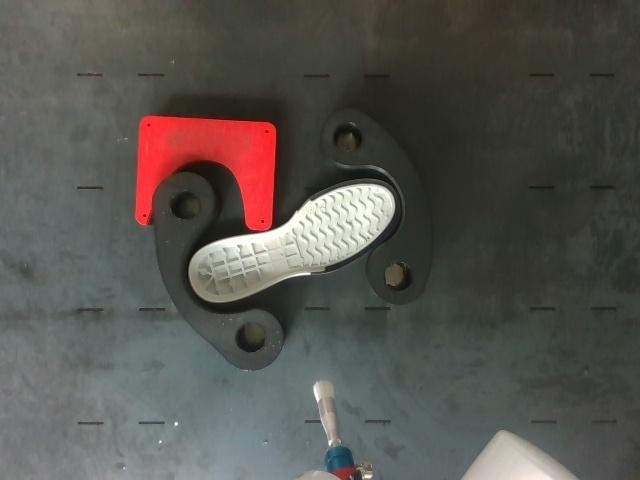shoes: (189, 179, 401, 302)
